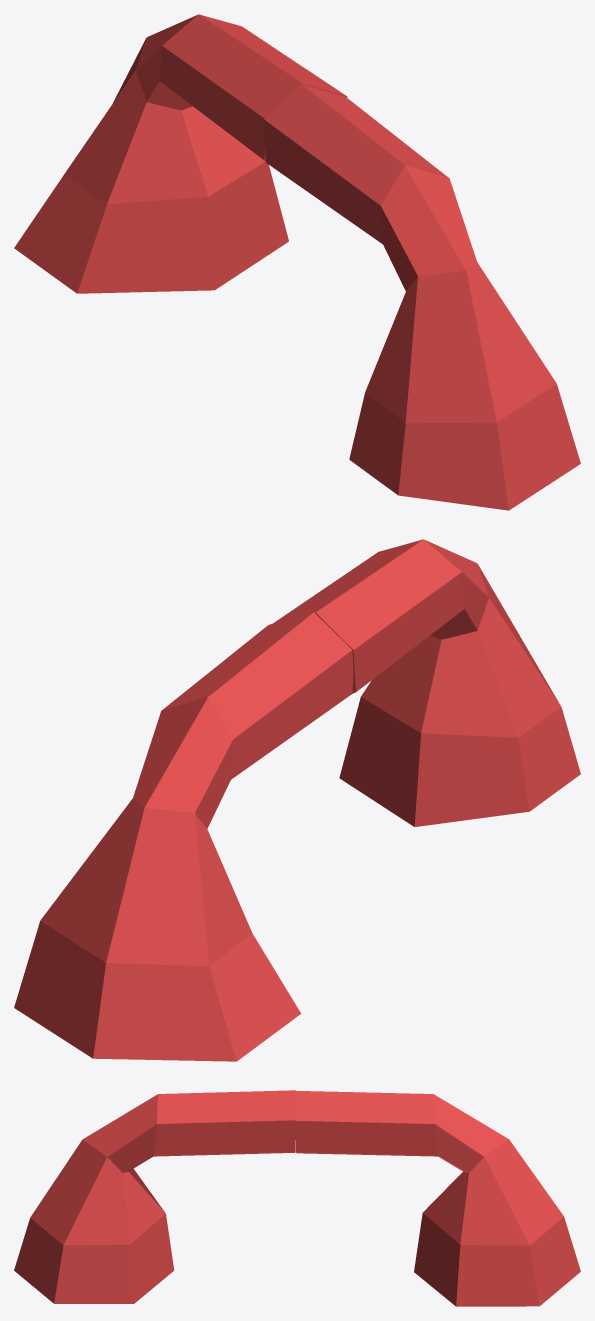
The model's file is phone.fbx.
3 views of the same model, one above another, from view 1: azimuth 30°, elevation 25°; view 2: azimuth 150°, elevation 25°; view 3: azimuth 270°, elevation 25° (orthographic). The views are drawn at different scales.
Visible parts, largest first — view 1: Cylinder; view 2: Cylinder; view 3: Cylinder.
Boxes of the visible parts, x1=… form: Cylinder: x1=14, y1=14, x2=580, y2=510; Cylinder: x1=14, y1=539, x2=580, y2=1061; Cylinder: x1=14, y1=1090, x2=580, y2=1306.
Size of the model in its own units: 136 by 165 by 467.
